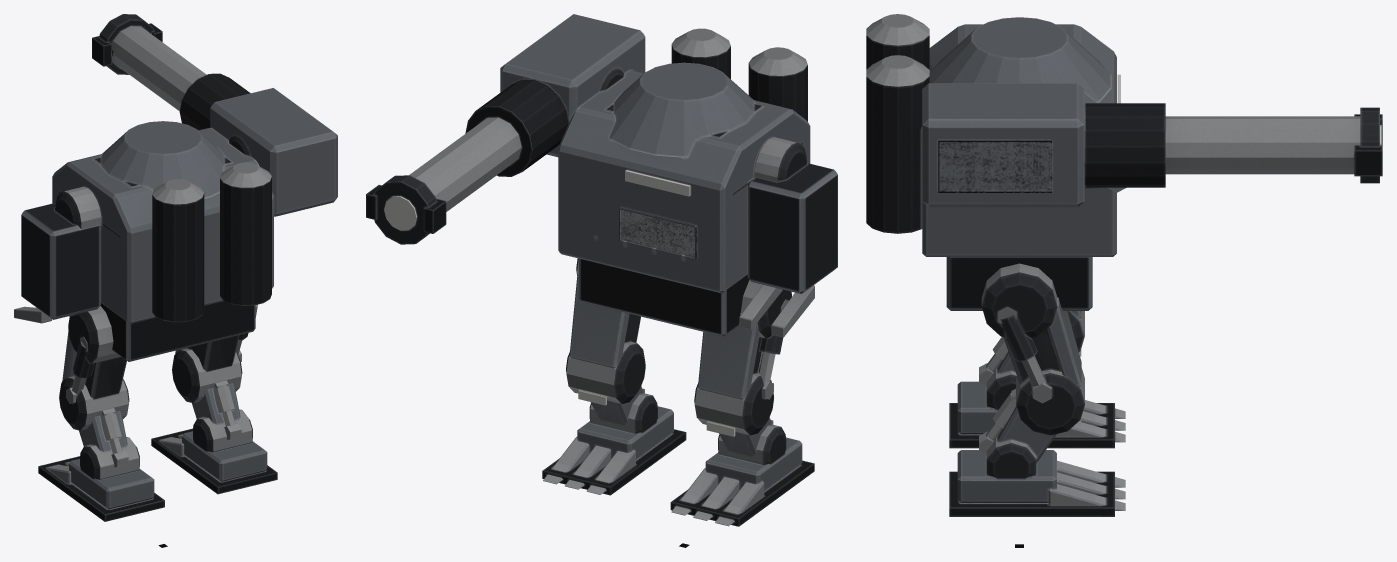
Rendered from chs_abyssal.fbx.
3 views of the same model, side by side, from view 1: azimuth 30°, elevation 25°; view 2: azimuth 150°, elevation 25°; view 3: azimuth 270°, elevation 25° (orthographic). The views are drawn at different scales.
Parts seen in each view (by area): view 1: torso_bar, thighL_bar, base_bar, footR_bar, footL_bar, thighR_bar, shinL_bar, shinR_bar; view 2: torso_bar, thighL_bar, base_bar, footL_bar, footR_bar, thighR_bar, shinR_bar, shinL_bar, torso_glow_weapon_bar, torso_glow_head_bar; view 3: torso_bar, thighR_bar, footR_bar, base_bar, footL_bar, shinR_bar, shinL_bar.
Boxes of the visible parts, bbox=[...] form: torso_bar: bbox=[14, 14, 337, 323]; thighL_bar: bbox=[59, 306, 129, 430]; base_bar: bbox=[100, 301, 255, 361]; footR_bar: bbox=[151, 428, 277, 494]; footL_bar: bbox=[38, 456, 164, 521]; thighR_bar: bbox=[172, 304, 257, 403]; shinL_bar: bbox=[79, 408, 139, 479]; shinR_bar: bbox=[192, 380, 252, 452]; torso_bar: bbox=[366, 14, 837, 337]; thighL_bar: bbox=[694, 280, 791, 435]; base_bar: bbox=[579, 258, 749, 336]; footL_bar: bbox=[670, 437, 814, 526]; footR_bar: bbox=[542, 406, 686, 495]; thighR_bar: bbox=[566, 258, 645, 403]; shinR_bar: bbox=[589, 386, 657, 433]; shinL_bar: bbox=[718, 417, 786, 464]; torso_glow_weapon_bar: bbox=[384, 196, 416, 230]; torso_glow_head_bar: bbox=[625, 170, 690, 196]; torso_bar: bbox=[866, 14, 1382, 256]; thighR_bar: bbox=[981, 263, 1084, 435]; footR_bar: bbox=[949, 450, 1125, 516]; base_bar: bbox=[946, 257, 1092, 310]; footL_bar: bbox=[949, 381, 1125, 448]; shinR_bar: bbox=[979, 388, 1056, 478]; shinL_bar: bbox=[979, 336, 1016, 409].
Bounding box in the file's own units: 844 × 1244 × 1146.
Materials: 2 (2 with a texture image).
